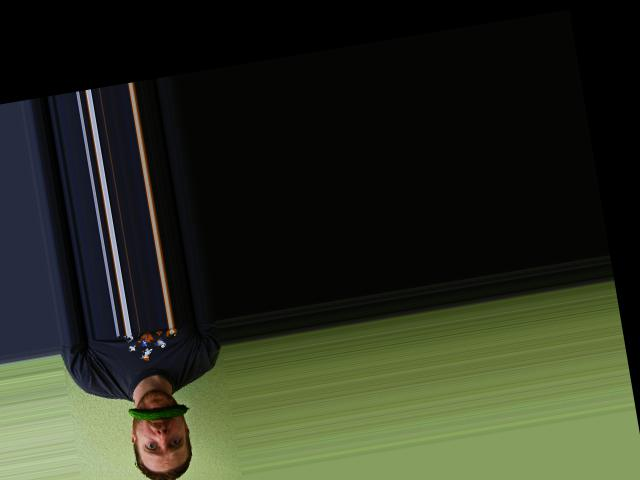cucumber: (127, 398, 190, 424)
